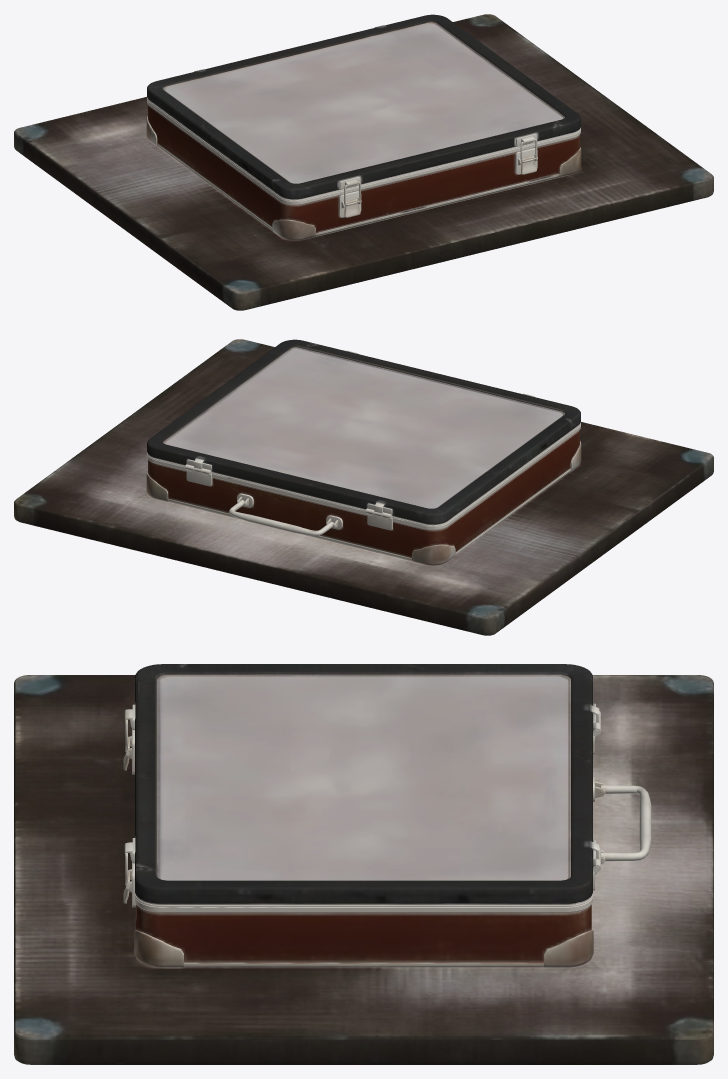
Rendered from valigetta.glb.
3 views of the same model, one above another, from view 1: azimuth 30°, elevation 25°; view 2: azimuth 150°, elevation 25°; view 3: azimuth 270°, elevation 25° (orthographic). The views are drawn at different scales.
Parts seen in each view (by area): view 1: Walnut tabletop | softly rolled solid edge, 08 | Clear glass – single bevelled plate, 01 | Lower shell – formed leather well, 06 | Lid – one-piece stepped black bezel, 03 | Aluminium mouth rail – folded return, 04 | Aluminium heel rail, 07 | Window – glazing channel, Stamped corner shoe / front right, 05 | Parting line – captured compression welt; view 2: Walnut tabletop | softly rolled solid edge, 08 | Clear glass – single bevelled plate, 01 | Lower shell – formed leather well, 06 | Lid – one-piece stepped black bezel, 03 | Aluminium mouth rail – folded return, 07 | Window – glazing channel, 04 | Aluminium heel rail, Handle | tapered polished carrying bow, Stamped corner shoe / rear right, 05 | Parting line – captured compression welt; view 3: Walnut tabletop | softly rolled solid edge, 08 | Clear glass – single bevelled plate, 06 | Lid – one-piece stepped black bezel, 01 | Lower shell – formed leather well, 03 | Aluminium mouth rail – folded return, 04 | Aluminium heel rail, 07 | Window – glazing channel, Handle | tapered polished carrying bow, Stamped corner shoe / front left, Stamped corner shoe / rear left, 05 | Parting line – captured compression welt.
Part boxes in pixels (box(x1,y1,x2,y2)): Walnut tabletop | softly rolled solid edge: box(14, 14, 713, 310); 08 | Clear glass – single bevelled plate: box(165, 23, 562, 183); 01 | Lower shell – formed leather well: box(148, 105, 579, 232); 06 | Lid – one-piece stepped black bezel: box(147, 14, 580, 199); 03 | Aluminium mouth rail – folded return: box(147, 97, 580, 204); 04 | Aluminium heel rail: box(157, 143, 559, 235); 07 | Window – glazing channel: box(163, 22, 564, 182); Stamped corner shoe / front right: box(272, 219, 315, 240); 05 | Parting line – captured compression welt: box(147, 98, 579, 200); Walnut tabletop | softly rolled solid edge: box(14, 339, 713, 635); 08 | Clear glass – single bevelled plate: box(165, 348, 562, 508); 01 | Lower shell – formed leather well: box(148, 430, 579, 557); 06 | Lid – one-piece stepped black bezel: box(147, 339, 580, 524); 03 | Aluminium mouth rail – folded return: box(147, 422, 580, 529); 07 | Window – glazing channel: box(163, 347, 564, 507); 04 | Aluminium heel rail: box(168, 468, 570, 560); Handle | tapered polished carrying bow: box(229, 500, 333, 535); Stamped corner shoe / rear right: box(412, 544, 455, 565); 05 | Parting line – captured compression welt: box(148, 423, 580, 525); Walnut tabletop | softly rolled solid edge: box(14, 675, 713, 1064); 08 | Clear glass – single bevelled plate: box(159, 676, 568, 880); 06 | Lid – one-piece stepped black bezel: box(135, 664, 592, 903); 01 | Lower shell – formed leather well: box(136, 904, 591, 962); 03 | Aluminium mouth rail – folded return: box(135, 893, 592, 912); 04 | Aluminium heel rail: box(136, 904, 591, 967); 07 | Window – glazing channel: box(157, 675, 570, 879); Handle | tapered polished carrying bow: box(601, 785, 651, 861); Stamped corner shoe / front left: box(134, 930, 183, 967); Stamped corner shoe / rear left: box(544, 930, 593, 967); 05 | Parting line – captured compression welt: box(136, 895, 591, 904).
Bounding box in the file's own units: 2 × 0.2787 × 1.63.
Materials: 1 (1 with a texture image).
